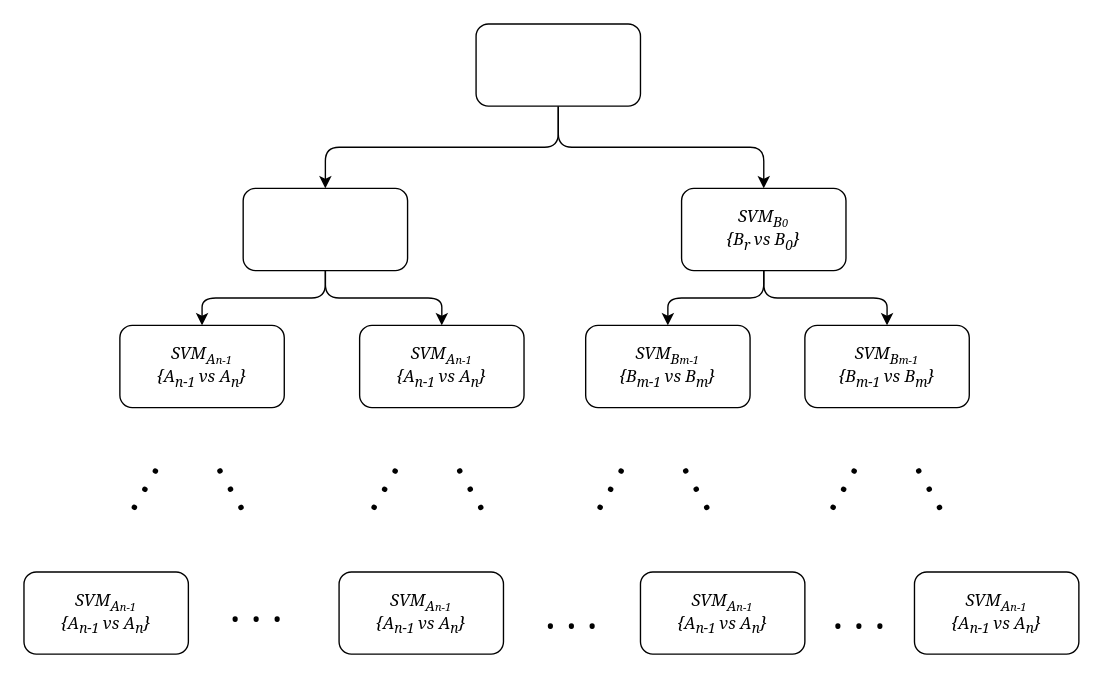
The diagram is 1103 pixels wide and 678 high, and some of its shapes have lost their labels. The centre of each missing label's shape, as x and y in pixels:
"SVM A 0 {A r vs A 0 }" goes at pixel 325 229.
"SVM AB {A vs B}" goes at pixel 557 64.
